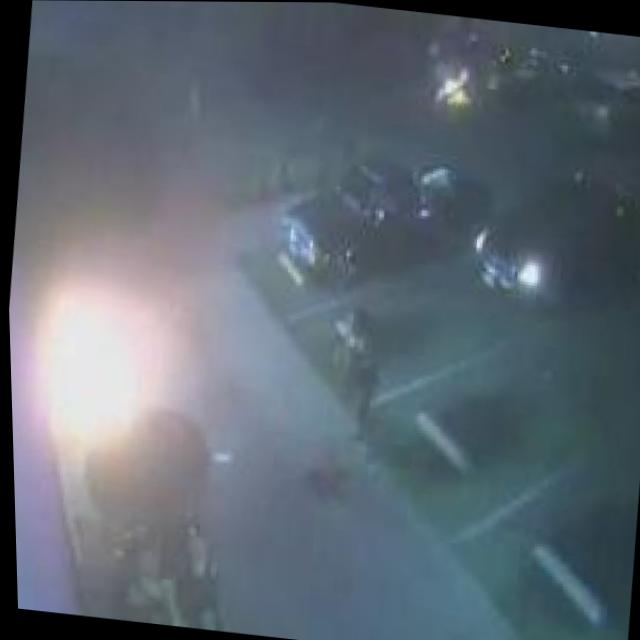fire: (8, 266, 177, 463), (428, 64, 478, 109)
